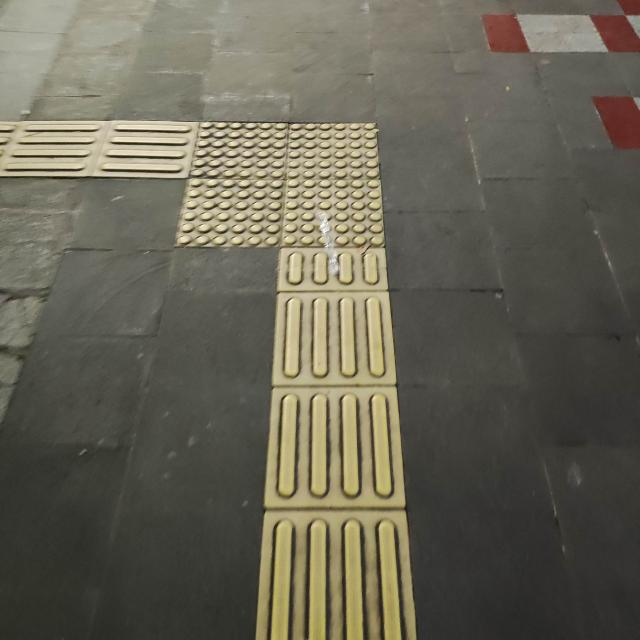kiri: (9, 67, 436, 329)
